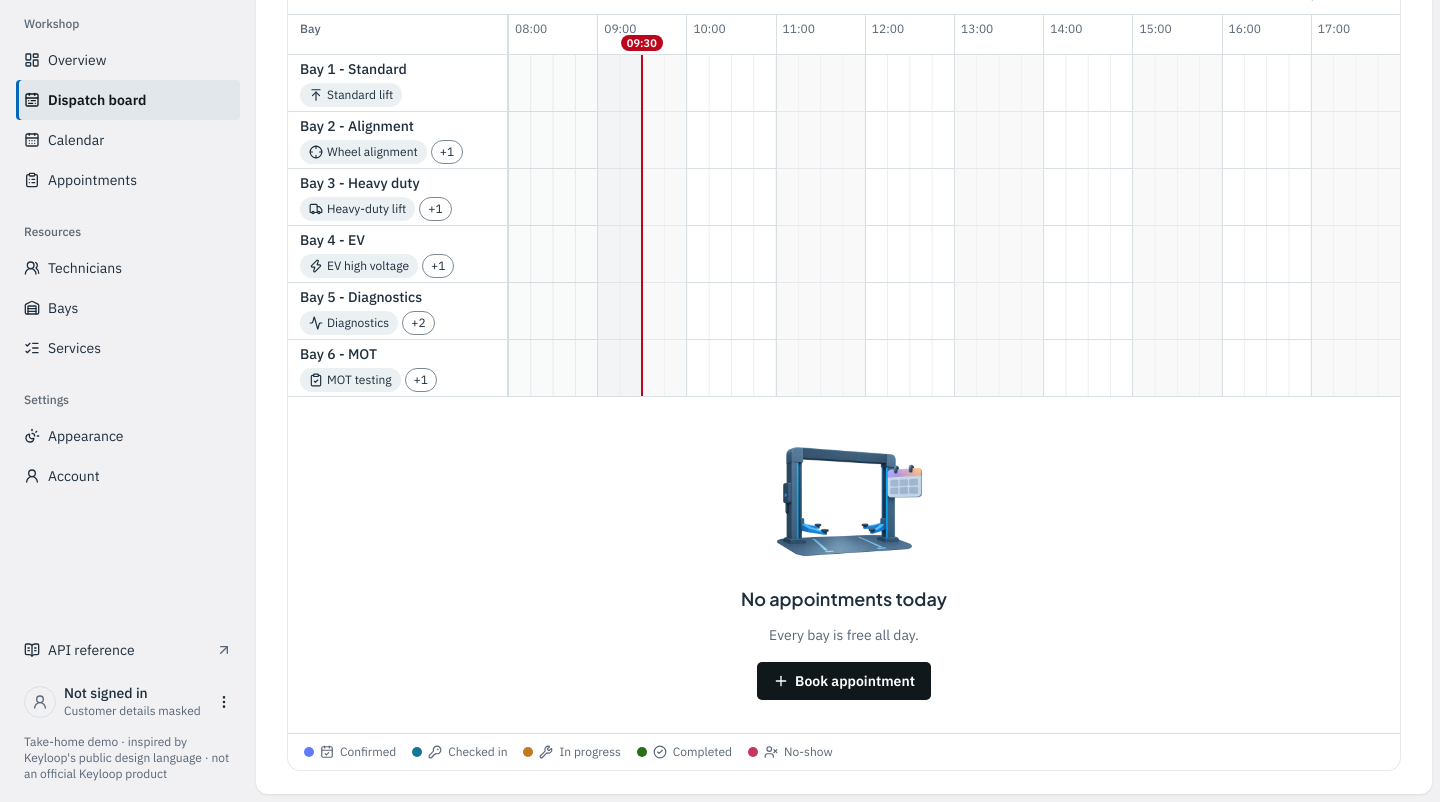
Test: booking as a visitor who is not signed in › asks to sign in from an empty day's Book appointment too
(page scrolled)
Expected: the heading "No appointments today" is shown, [741, 585, 947, 613]
Click the button "Book appointment" at (844,681), box [756, 661, 932, 701]
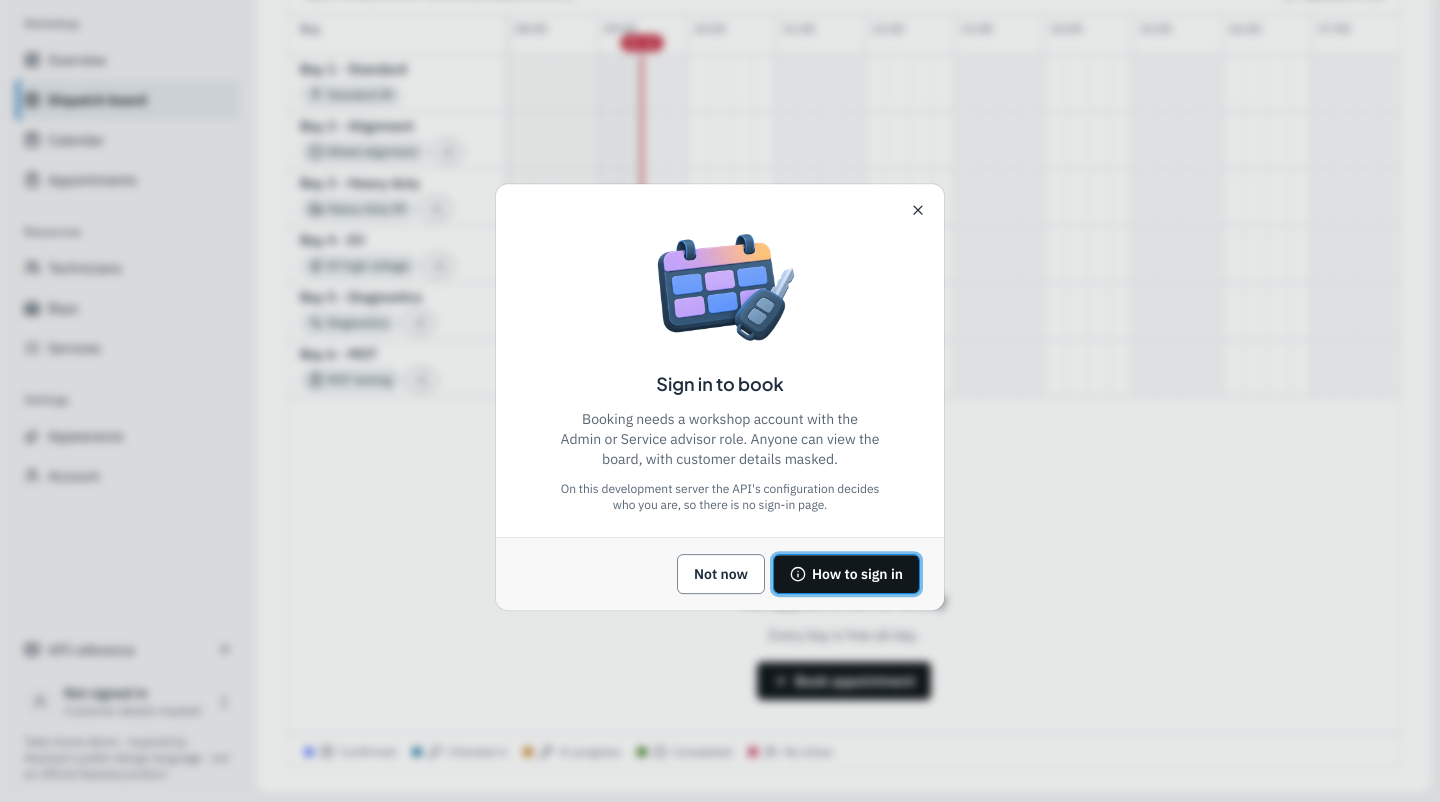
Expected: the dialog "Sign in to book" is shown, [496, 184, 944, 610]
